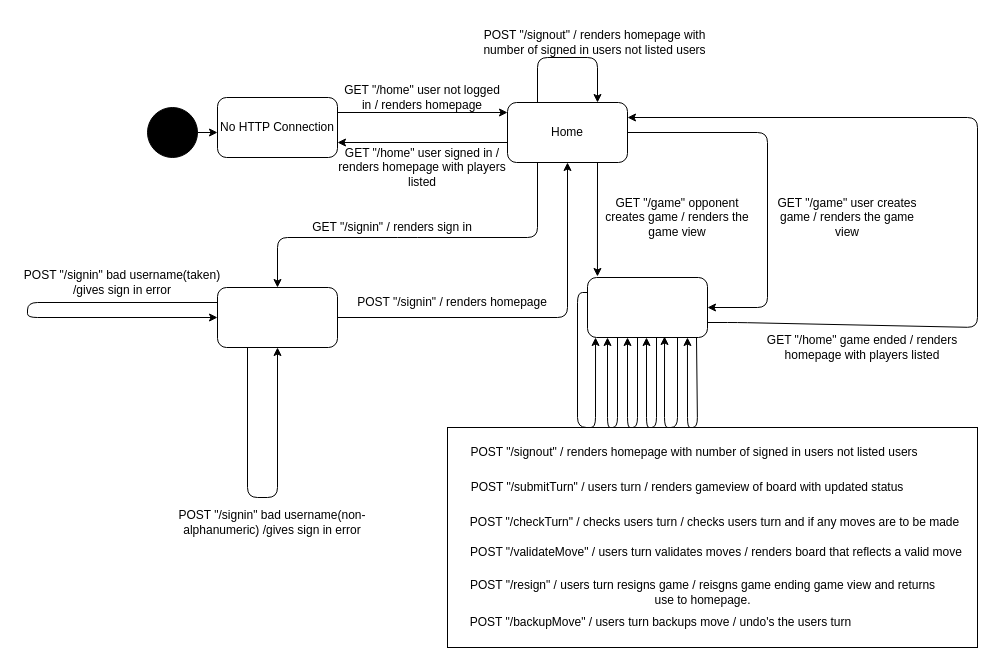
This 1003x665 diagram has some shape labels left out. Here are the shapes that lost their labels. From the top down, the box of each, then its label:
(216, 286, 338, 348): Sign In
(586, 276, 708, 338): Game
